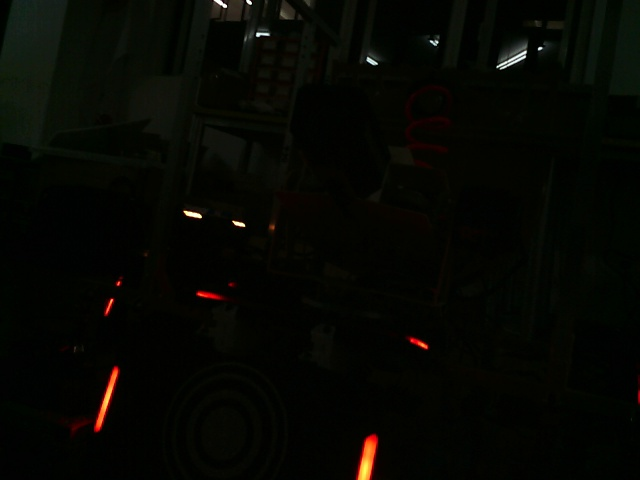lamp: (85, 362, 124, 434)
